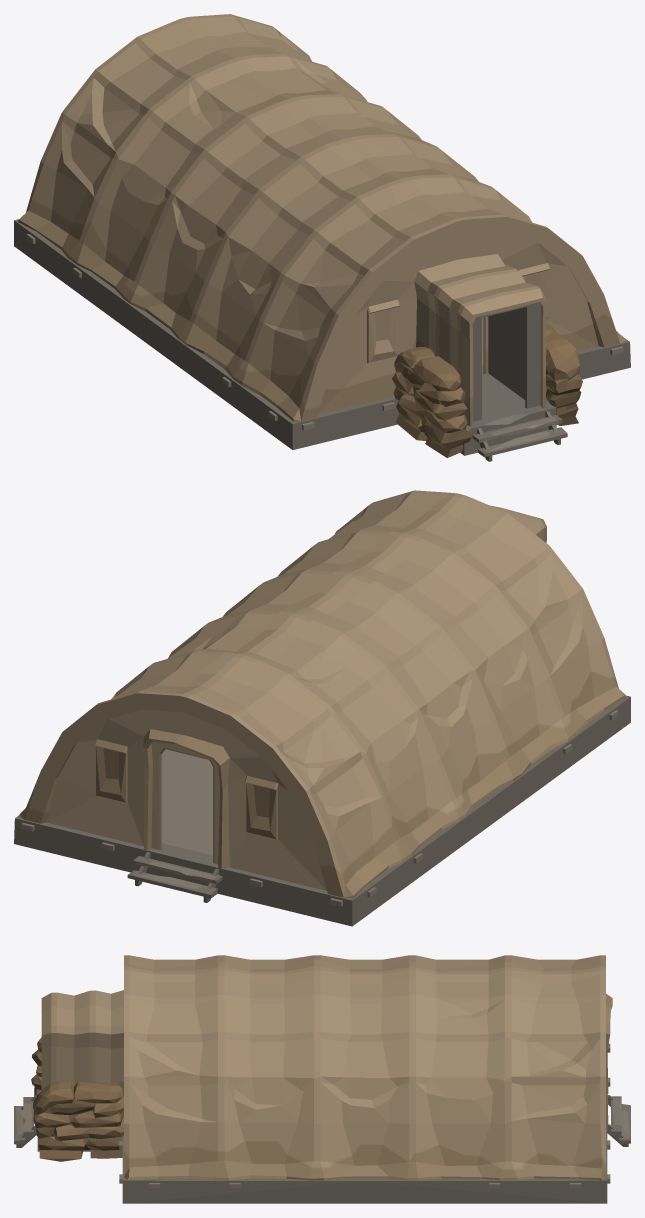
The model's file is SM_Bld_Tent_Sandbags_01.glb.
3 renders of one model, top to bottom at view 1: azimuth 30°, elevation 25°; view 2: azimuth 150°, elevation 25°; view 3: azimuth 270°, elevation 25°, orthographic. The views are drawn at different scales.
Parts seen in each view (by area): view 1: SM_Bld_Tent_Sandbags_01; view 2: SM_Bld_Tent_Sandbags_01; view 3: SM_Bld_Tent_Sandbags_01.
Boxes of the visible parts, bbox=[...] form: SM_Bld_Tent_Sandbags_01: bbox=[14, 14, 630, 461]; SM_Bld_Tent_Sandbags_01: bbox=[14, 490, 630, 926]; SM_Bld_Tent_Sandbags_01: bbox=[14, 955, 630, 1203].
Size of the model in its own units: 7.8 by 4.18 by 13.95.
Materials: 1 (1 with a texture image).
